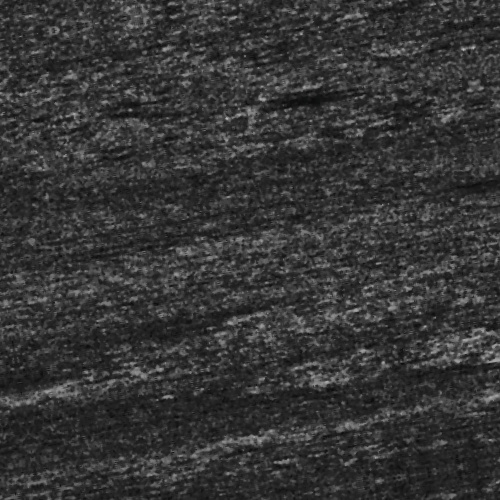object: (248, 109, 301, 116), (254, 105, 295, 108), (275, 99, 306, 102)
shadow: (275, 109, 379, 116), (275, 105, 379, 108), (291, 99, 326, 102)
